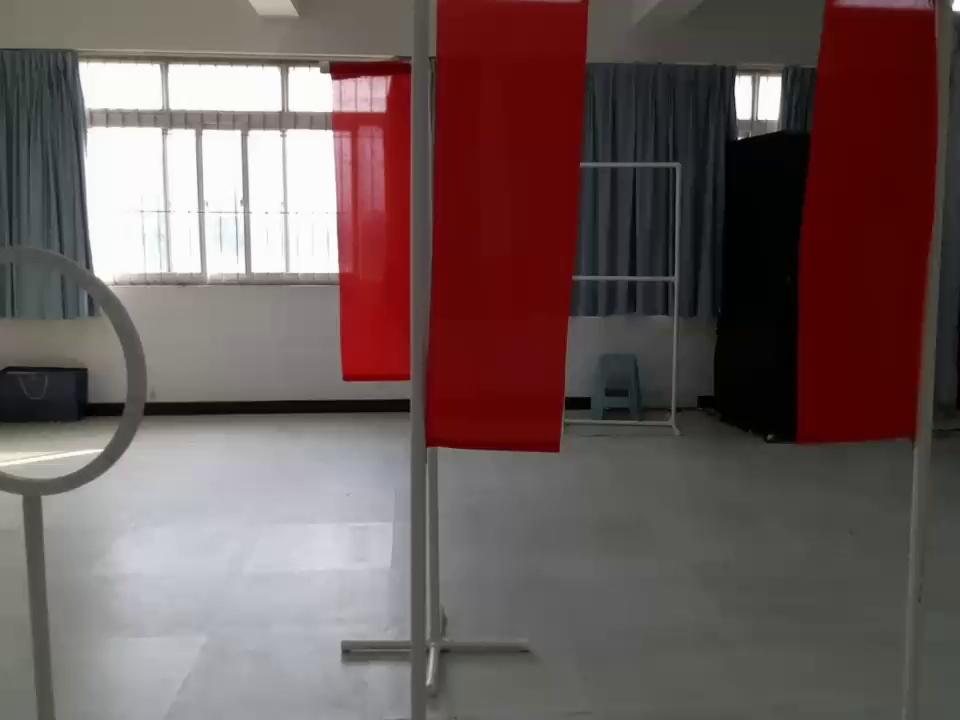qi: (400, 3, 586, 462), (788, 4, 948, 451), (334, 57, 420, 382)
quan: (1, 242, 150, 503)
